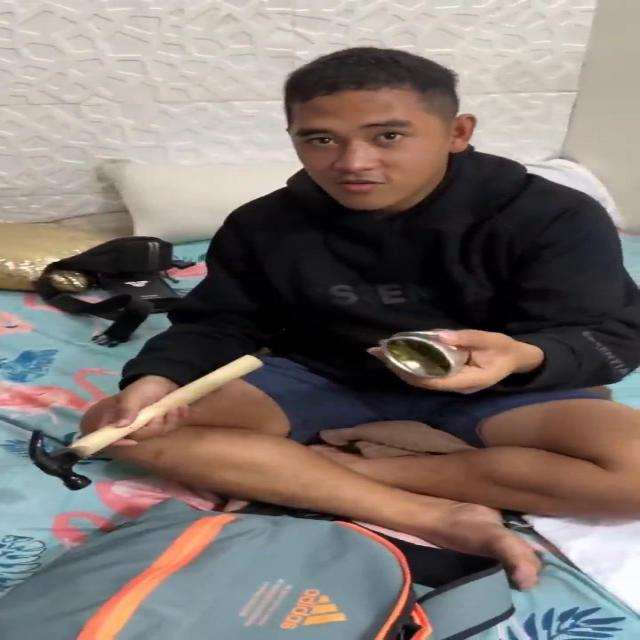hammer: (27, 353, 266, 492)
